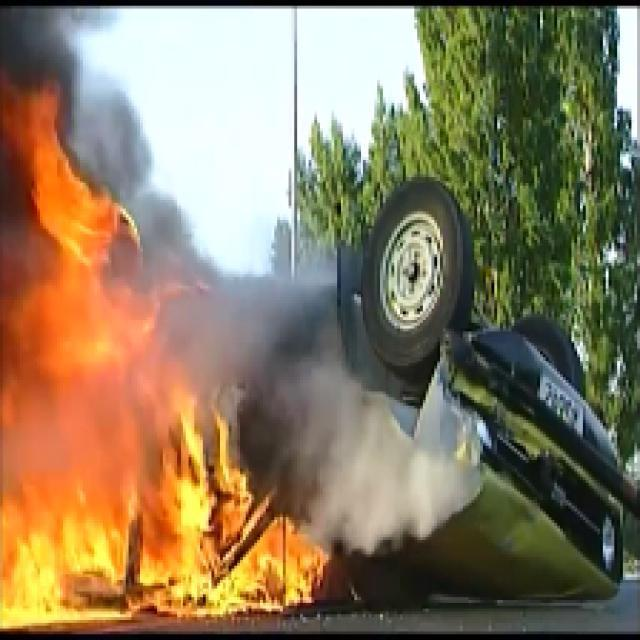Fire: (2, 80, 328, 637)
Smoke: (3, 2, 60, 72)
